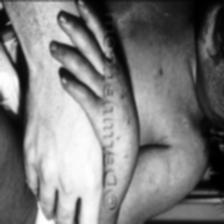Toxin: (114, 90, 132, 162)
